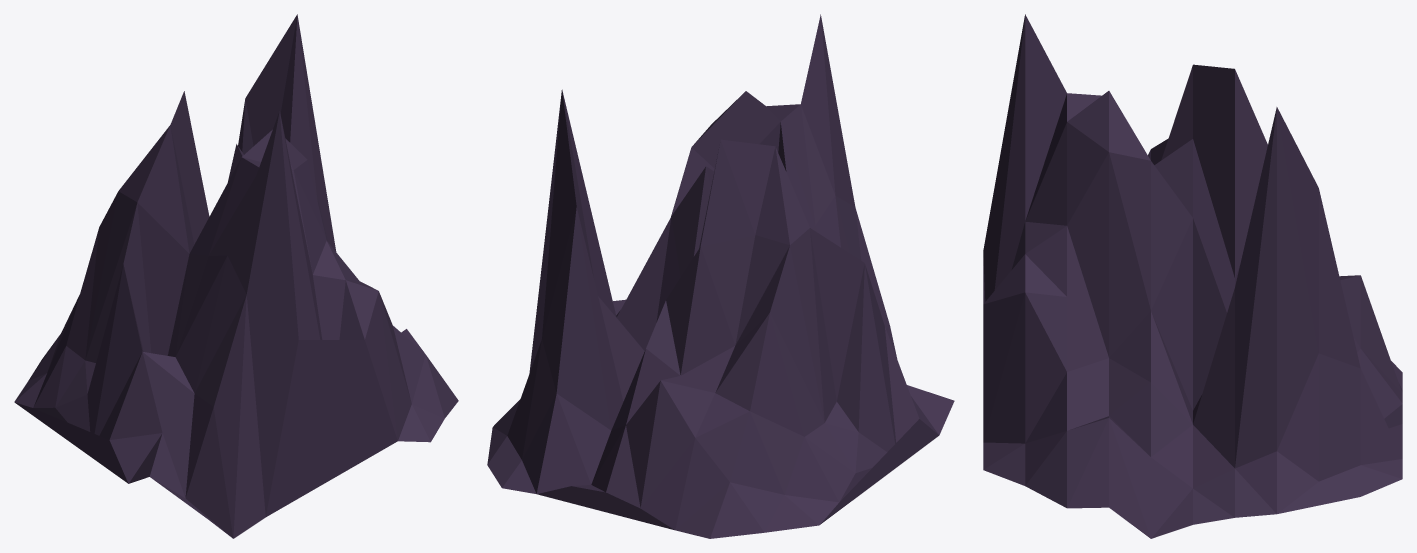
3 views of the same model, side by side, from view 1: azimuth 30°, elevation 25°; view 2: azimuth 150°, elevation 25°; view 3: azimuth 270°, elevation 25° (orthographic). The views are drawn at different scales.
Parts seen in each view (by area): view 1: Plane; view 2: Plane; view 3: Plane.
Part boxes in pixels (<box>): Plane: <box>14,14,458,538</box>; Plane: <box>487,14,954,538</box>; Plane: <box>983,14,1402,538</box>.
Size of the model in its own units: 2000 by 2310 by 2000.
